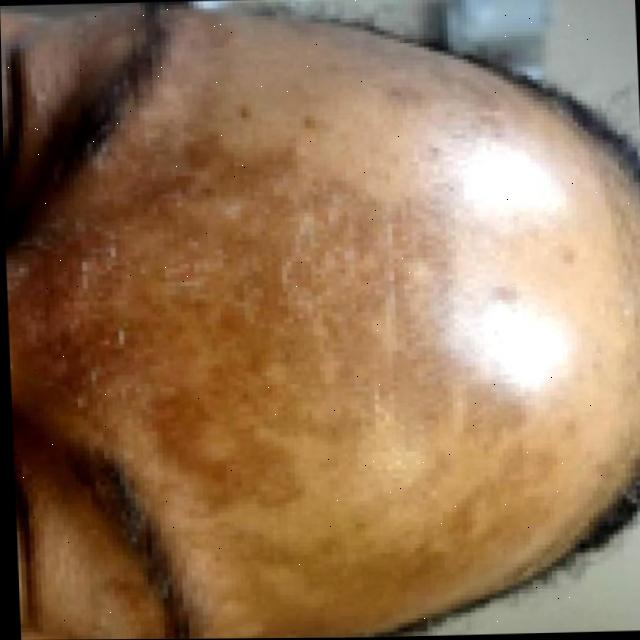Melasma: (26, 146, 567, 640)
